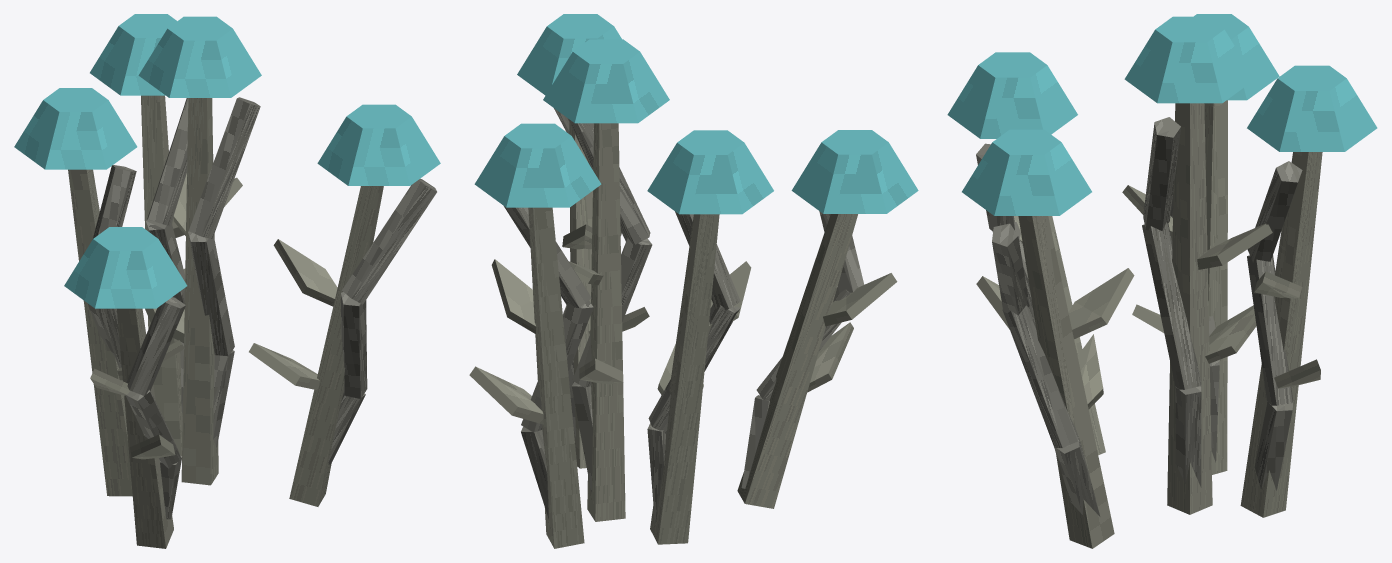
File: f_flower_marloss.glb
The picture shows the model from 3 angles, left to right: view 1: azimuth 30°, elevation 25°; view 2: azimuth 150°, elevation 25°; view 3: azimuth 270°, elevation 25°; orthographic projection. The views are drawn at different scales.
Visible parts, largest first — view 1: block_fungal-tendril-3 (×5), block_stem-0, block_fungal-tendril-2 (×5), block_stem-3, block_flower-head-1, block_flower-head-4, block_flower-head-3, block_flower-head-0, block_stem-4, block_stem-1, block_pointed-leaf (×4), block_stem-2 (+2 smaller); view 2: block_stem-0, block_stem-4, block_stem-2, block_stem-1, block_pointed-leaf (×7), block_flower-head-4, block_flower-head-0, block_flower-head-2, block_flower-head-1, block_fungal-tendril-3 (×4), block_fungal-tendril-2 (×4), block_fungal-tendril-1 (×4) (+2 smaller); view 3: block_fungal-tendril-2 (×3), block_stem-0, block_stem-3, block_stem-2, block_pointed-leaf (×7), block_flower-head-0, block_flower-head-3, block_flower-head-2, block_fungal-tendril-3 (×3), block_flower-head-1, block_fungal-tendril-1 (×4), block_stem-4 (+2 smaller).
Boxes of the visible parts, x1,y1,x2,y2 form: block_fungal-tendril-3 (×5): (93,97,436,395); block_stem-0: (181,98,218,485); block_fungal-tendril-2 (×5): (87,219,367,468); block_stem-3: (289,186,383,506); block_flower-head-1: (64,227,187,308); block_flower-head-4: (14,88,137,169); block_flower-head-3: (317,104,440,185); block_flower-head-0: (138,16,261,97); block_stem-4: (68,169,132,496); block_stem-1: (117,308,173,548); block_pointed-leaf (×4): (90,239,337,459); block_stem-2: (141,95,182,456); block_stem-0: (587,123,625,521); block_stem-4: (650,214,719,544); block_stem-2: (528,207,584,548); block_stem-1: (737,214,857,508); block_pointed-leaf (×7): (469,224,897,424); block_flower-head-4: (647,130,773,214); block_flower-head-0: (543,39,669,123); block_flower-head-2: (474,123,601,207); block_flower-head-1: (791,130,918,213); block_fungal-tendril-3 (×4): (504,118,864,309); block_fungal-tendril-2 (×4): (521,238,850,433); block_fungal-tendril-1 (×4): (521,382,769,526); block_fungal-tendril-2 (×3): (1002,222,1293,447); block_stem-0: (1167,103,1212,514); block_stem-3: (1018,216,1114,548); block_stem-2: (1240,152,1322,517); block_pointed-leaf (×7): (976,223,1320,409); block_flower-head-0: (1124,16,1254,103); block_flower-head-3: (962,129,1091,215); block_flower-head-2: (1247,65,1377,151); block_fungal-tendril-3 (×3): (992,117,1302,315); block_flower-head-1: (947,52,1077,138); block_fungal-tendril-1 (×4): (1054,360,1293,516); block_stem-4: (1204,100,1227,474).
Size of the model in its own units: 0.4557 by 0.5587 by 0.4538.
1 material, 1 textured.
